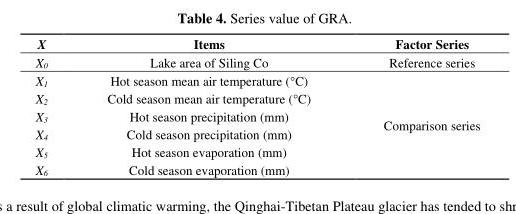table: (34, 34, 479, 177)
table column: (76, 34, 346, 177), (346, 34, 479, 177), (34, 34, 76, 177)
table column header: (34, 34, 479, 52)
table row: (34, 34, 479, 52), (34, 52, 479, 70), (34, 70, 479, 88), (34, 88, 479, 106), (34, 106, 479, 124), (34, 124, 479, 142), (34, 159, 479, 177), (34, 142, 479, 159)
table spanning cell: (346, 70, 479, 177)
